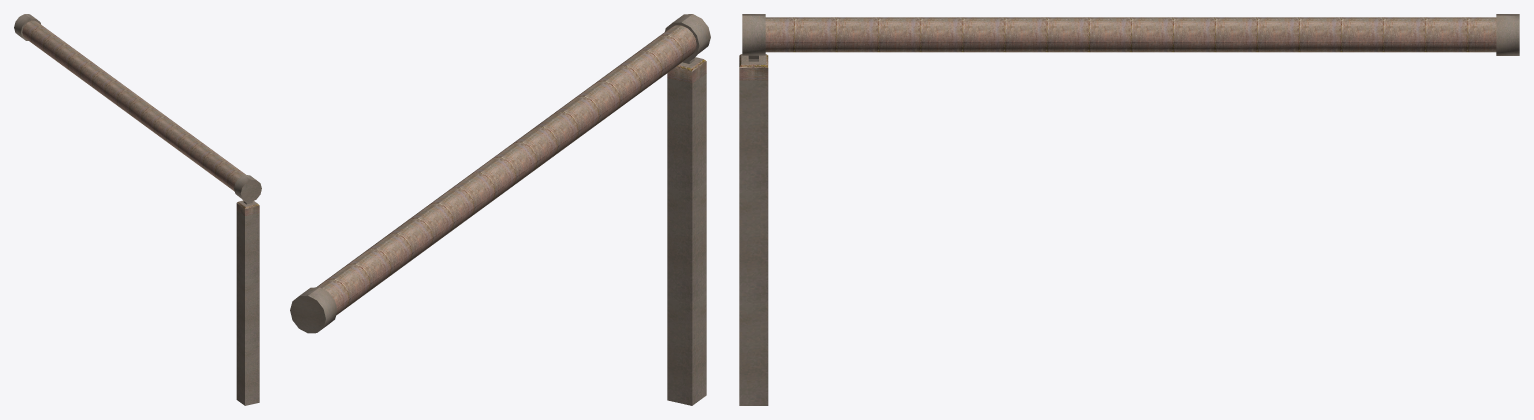
The model's file is O_Pipe1.glb.
3 views of the same model, side by side, from view 1: azimuth 30°, elevation 25°; view 2: azimuth 150°, elevation 25°; view 3: azimuth 270°, elevation 25° (orthographic). The views are drawn at different scales.
Parts seen in each view (by area): view 1: _O_Pipe1; view 2: _O_Pipe1; view 3: _O_Pipe1.
Boxes of the visible parts, <box> form: _O_Pipe1: <box>14,14,261,405</box>; _O_Pipe1: <box>290,14,710,405</box>; _O_Pipe1: <box>739,14,1519,405</box>.
Bounding box in the file's own units: 1.8 × 18.16 × 33.46.
Materials: 2 (2 with a texture image).
